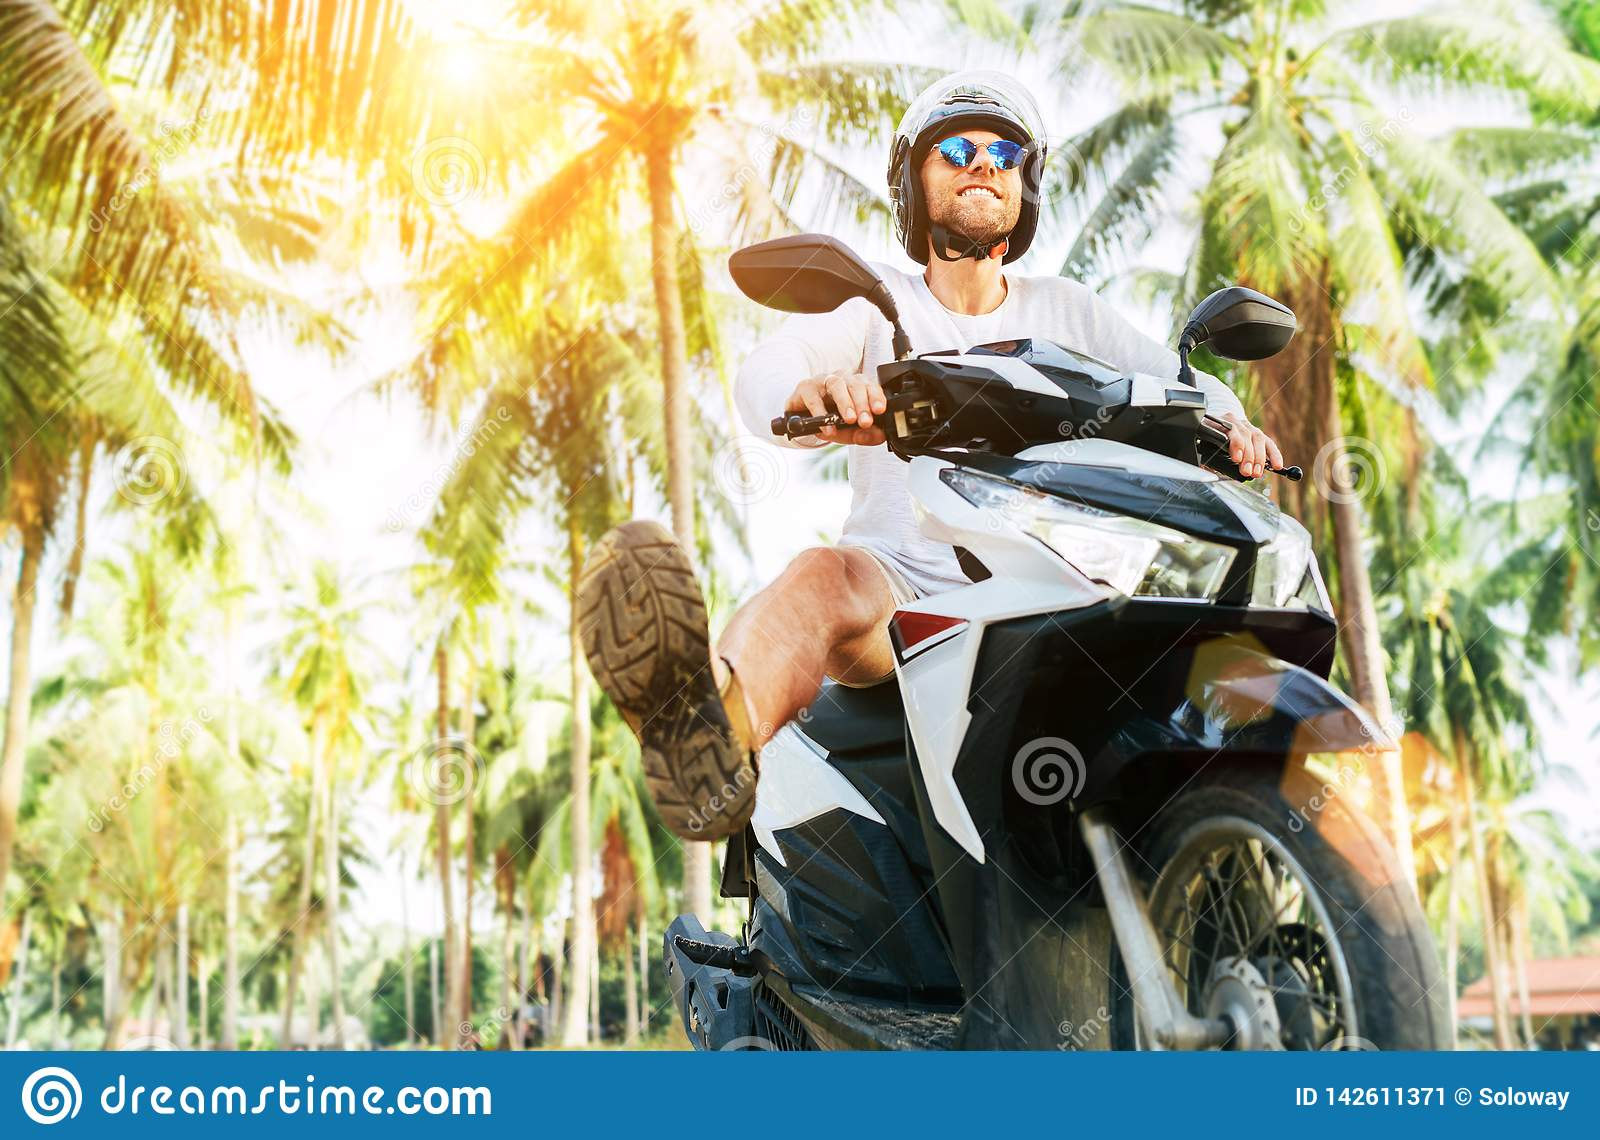helmet: (878, 81, 1054, 246)
